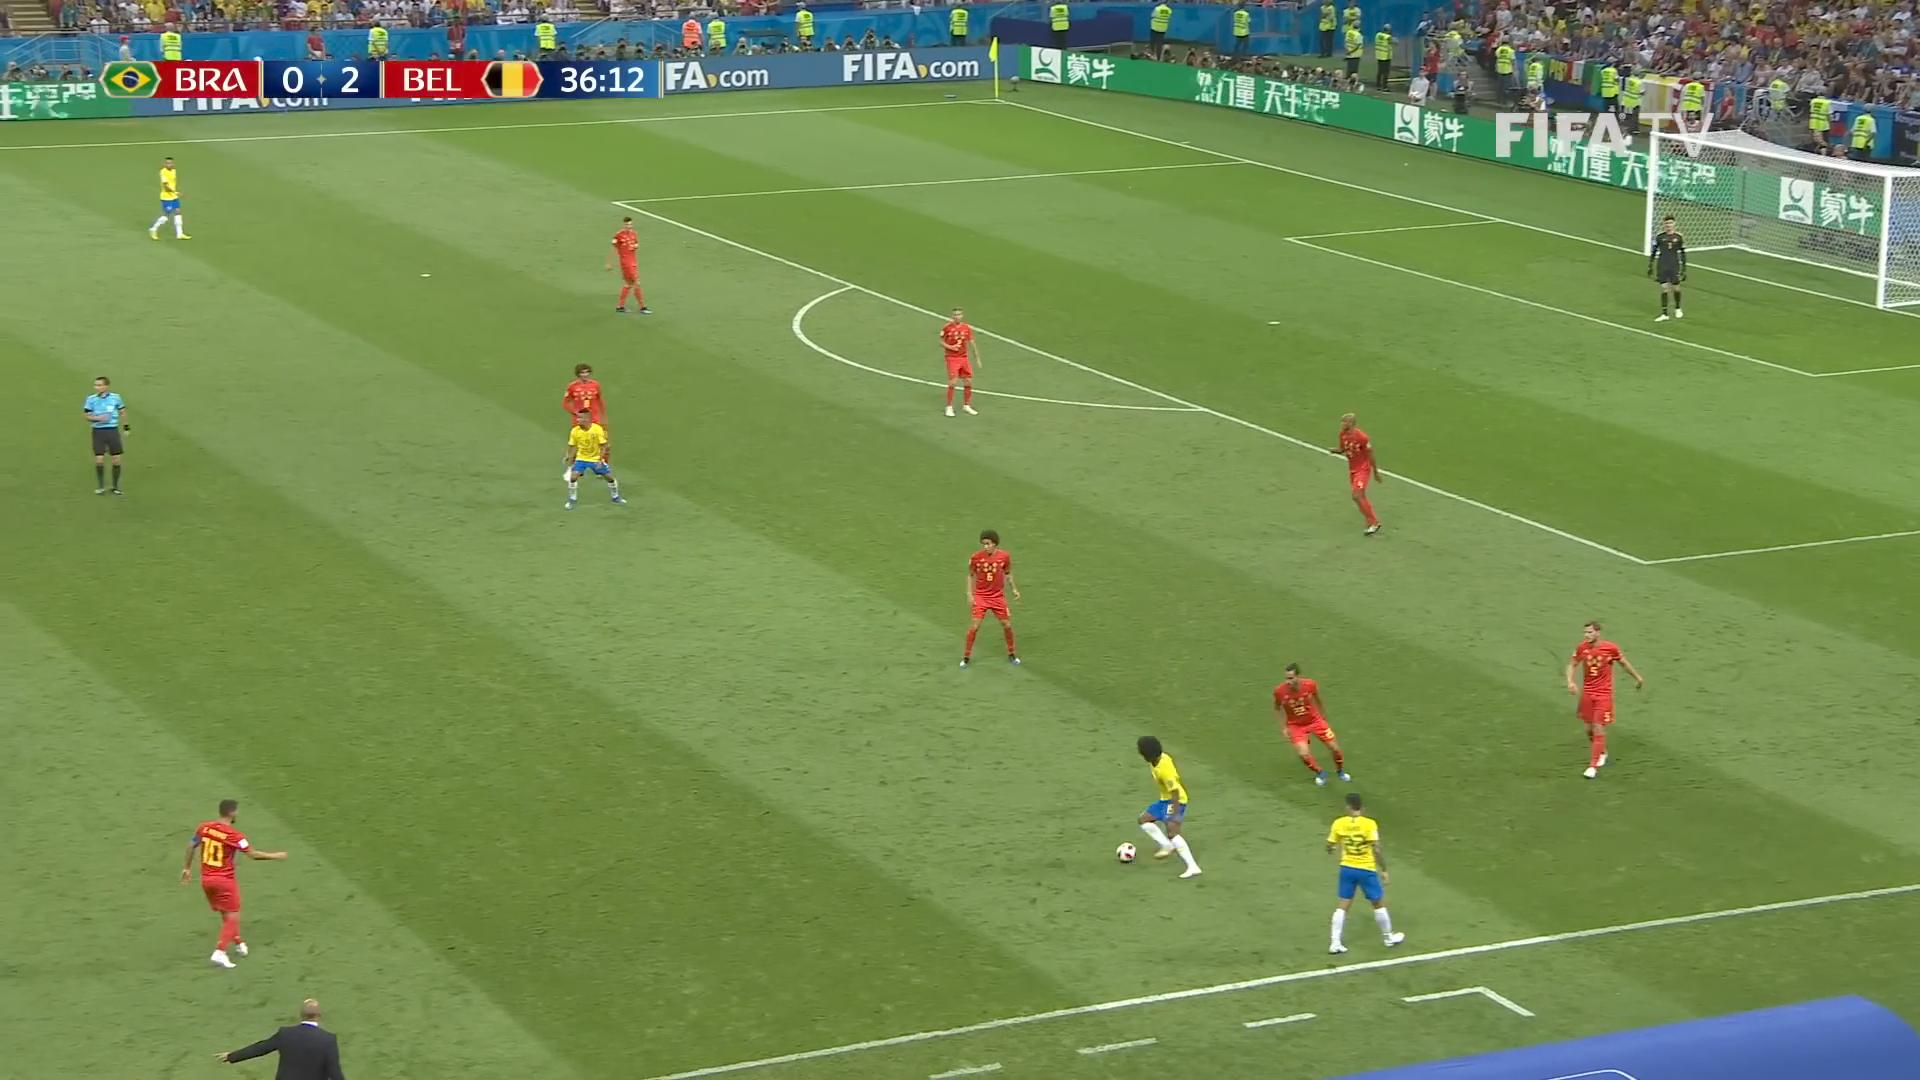ball: (1117, 841, 1136, 863)
goalkeeper: (1646, 214, 1687, 321)
player: (179, 797, 288, 968), (1323, 792, 1405, 954), (1565, 618, 1643, 779), (1271, 661, 1351, 786), (1134, 734, 1202, 878), (957, 529, 1021, 668), (1327, 411, 1382, 535), (560, 410, 627, 509), (564, 365, 612, 480), (938, 307, 982, 417), (605, 215, 651, 313), (147, 155, 192, 241)
referee: (83, 373, 132, 495)
